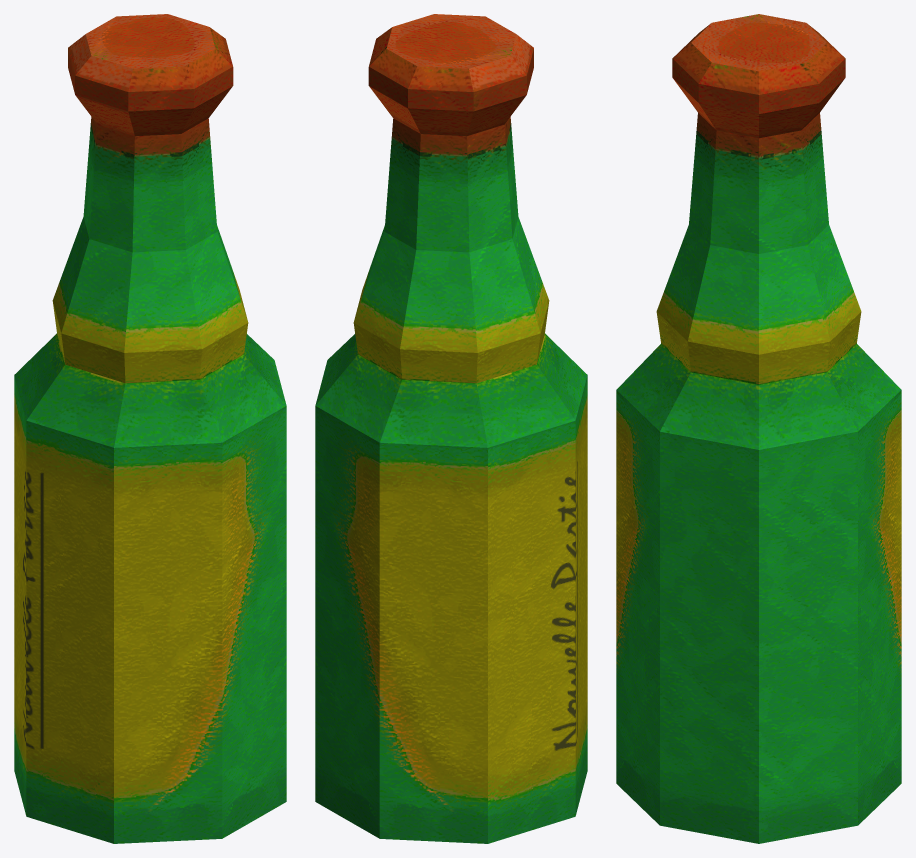
File: bottle_nouv.fbx
3 renders of one model, left to right at view 1: azimuth 30°, elevation 25°; view 2: azimuth 150°, elevation 25°; view 3: azimuth 270°, elevation 25°, orthographic.
Visible parts, largest first — view 1: Cube; view 2: Cube; view 3: Cube.
Part boxes in pixels (<box>): Cube: <box>14,14,286,843</box>; Cube: <box>315,14,587,843</box>; Cube: <box>616,14,901,843</box>.
Size of the model in its own units: 200 by 574 by 200.
